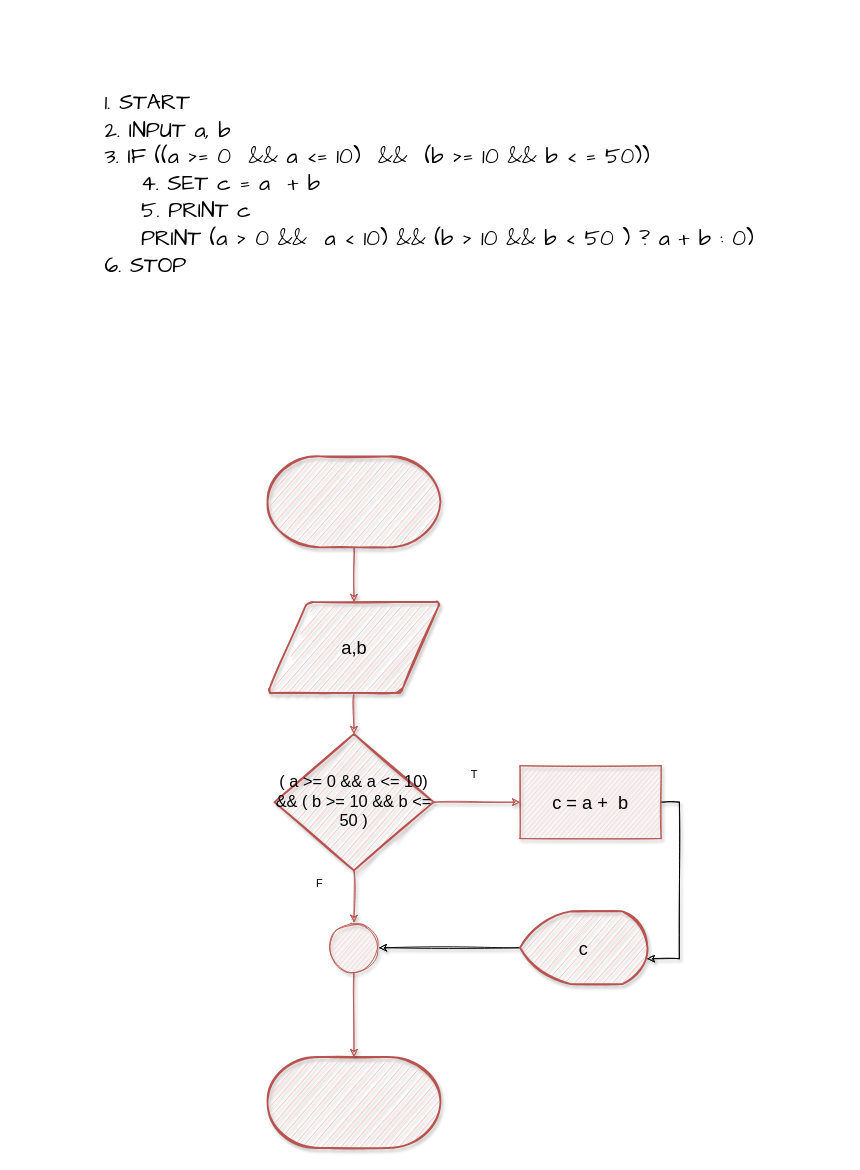
Image size: 860x1170. Some labels were removed from this diagram. Each missing label, with the centre of its shape:
START: point 354,502
STOPT: point 354,1103
